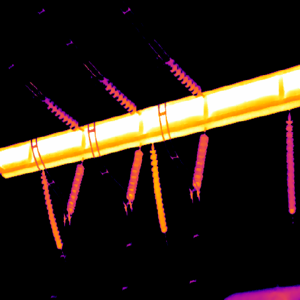insulator: (39, 169, 62, 250), (148, 148, 167, 233), (167, 58, 202, 98), (101, 79, 137, 116), (284, 116, 297, 215), (45, 98, 79, 133), (190, 131, 209, 190), (124, 148, 144, 201), (65, 161, 84, 214)
